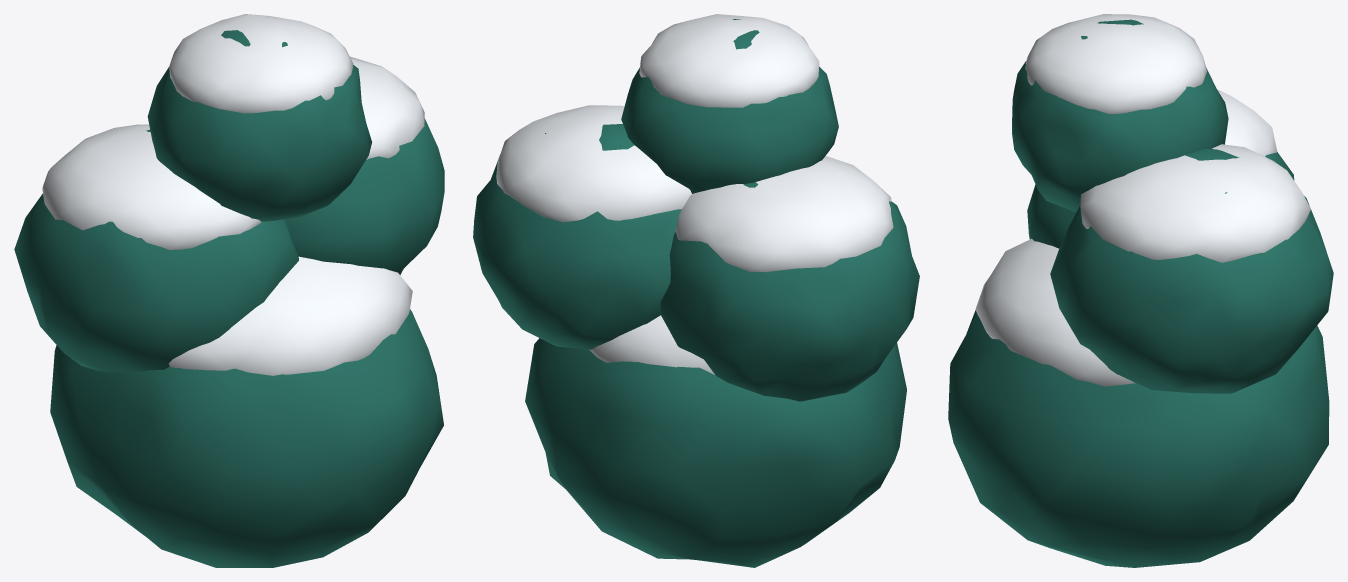
Rendered from SnowTuft.fbx.
The picture shows the model from 3 angles, left to right: view 1: azimuth 30°, elevation 25°; view 2: azimuth 150°, elevation 25°; view 3: azimuth 270°, elevation 25°; orthographic projection. The views are drawn at different scales.
Visible parts, largest first — view 1: SnowTuft; view 2: SnowTuft; view 3: SnowTuft.
Part boxes in pixels (box(x1,y1,x2,y2)): SnowTuft: box(14, 14, 444, 567); SnowTuft: box(473, 14, 919, 567); SnowTuft: box(948, 14, 1333, 567).
Size of the model in its own units: 1.02 by 1.27 by 0.8474.
1 material, 1 textured.
